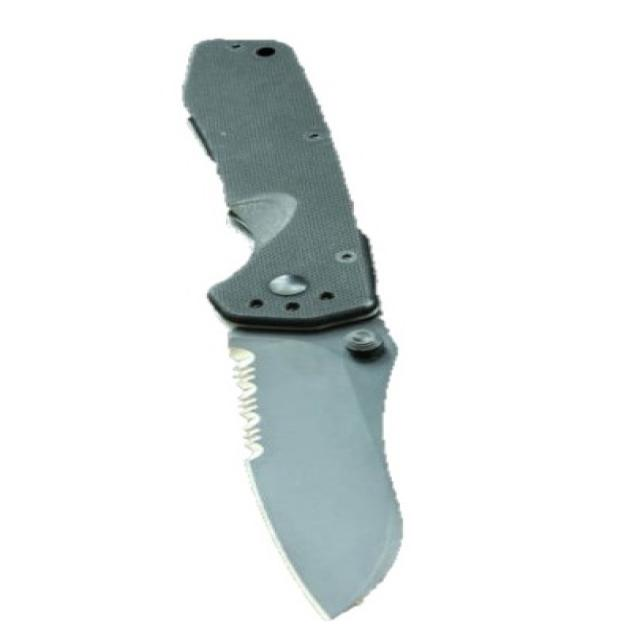knife: (185, 22, 412, 629)
